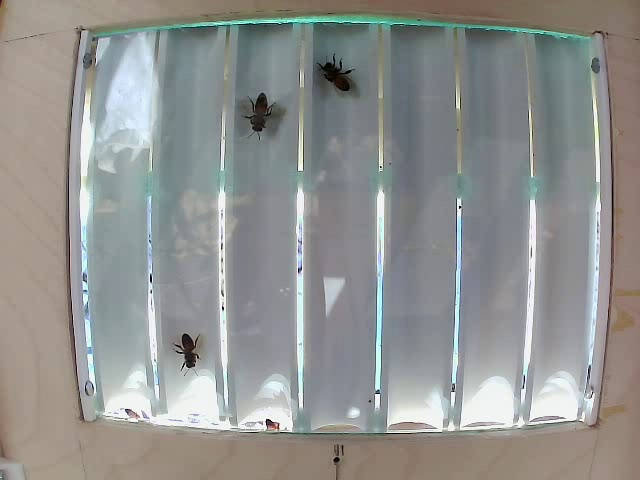bee: (317, 52, 366, 117), (239, 85, 283, 147), (166, 326, 207, 375)
